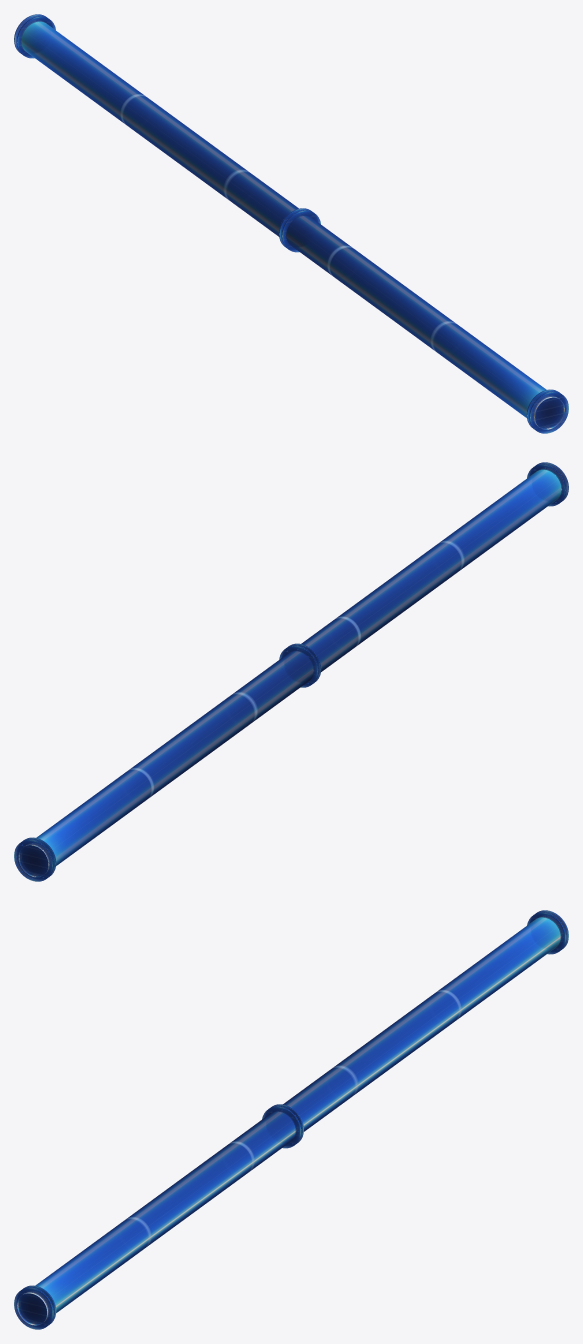
File: gaungdao_a_1.gltf
3 views of the same model, one above another, from view 1: azimuth 30°, elevation 25°; view 2: azimuth 150°, elevation 25°; view 3: azimuth 330°, elevation 25° (orthographic).
Visible parts, largest first — view 1: 空白; view 2: 空白; view 3: 空白.
Part boxes in pixels (bbox=[...]): 空白: bbox=[14, 14, 568, 433]; 空白: bbox=[14, 462, 568, 881]; 空白: bbox=[14, 910, 568, 1329].
Bounding box in the file's own units: 1.57 × 1.57 × 36.14.
1 material, 1 textured.
